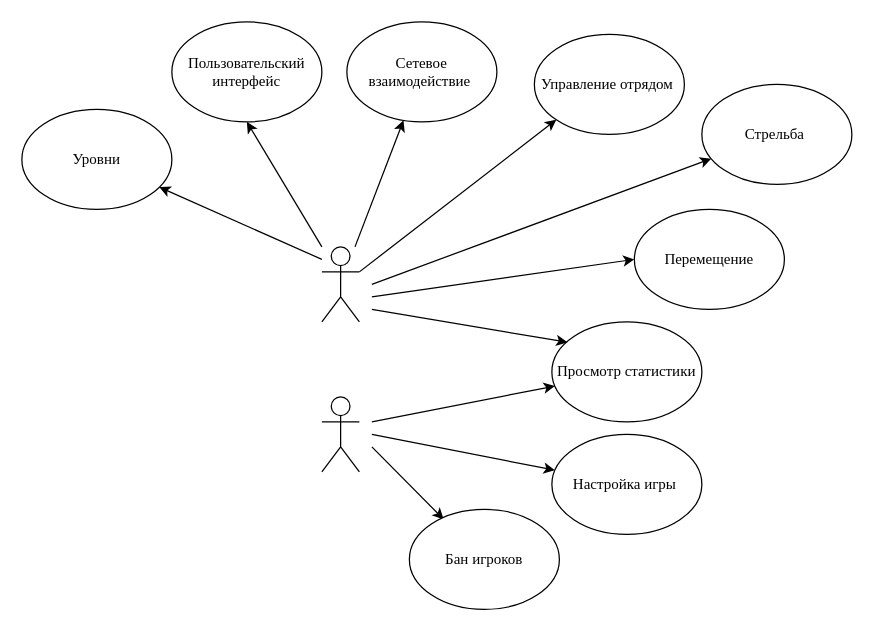
This 874x631 diagram has some shape labels left out. The centre of each missing label's shape, as x and y in pixels:
"Администратор" belongs at pixel 340 434.
"Игрок" belongs at pixel 340 284.
